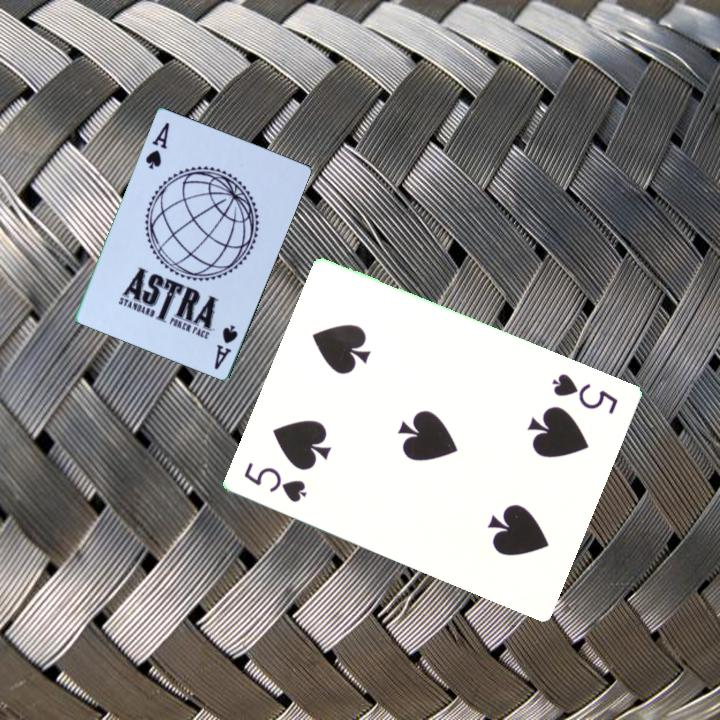5s: (549, 369, 622, 417), (241, 458, 311, 505)
As: (210, 321, 241, 372), (142, 118, 172, 170)
